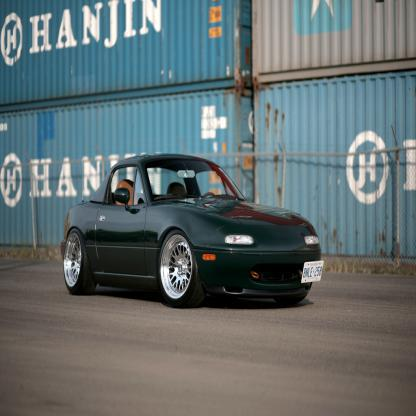car: (58, 151, 326, 308)
